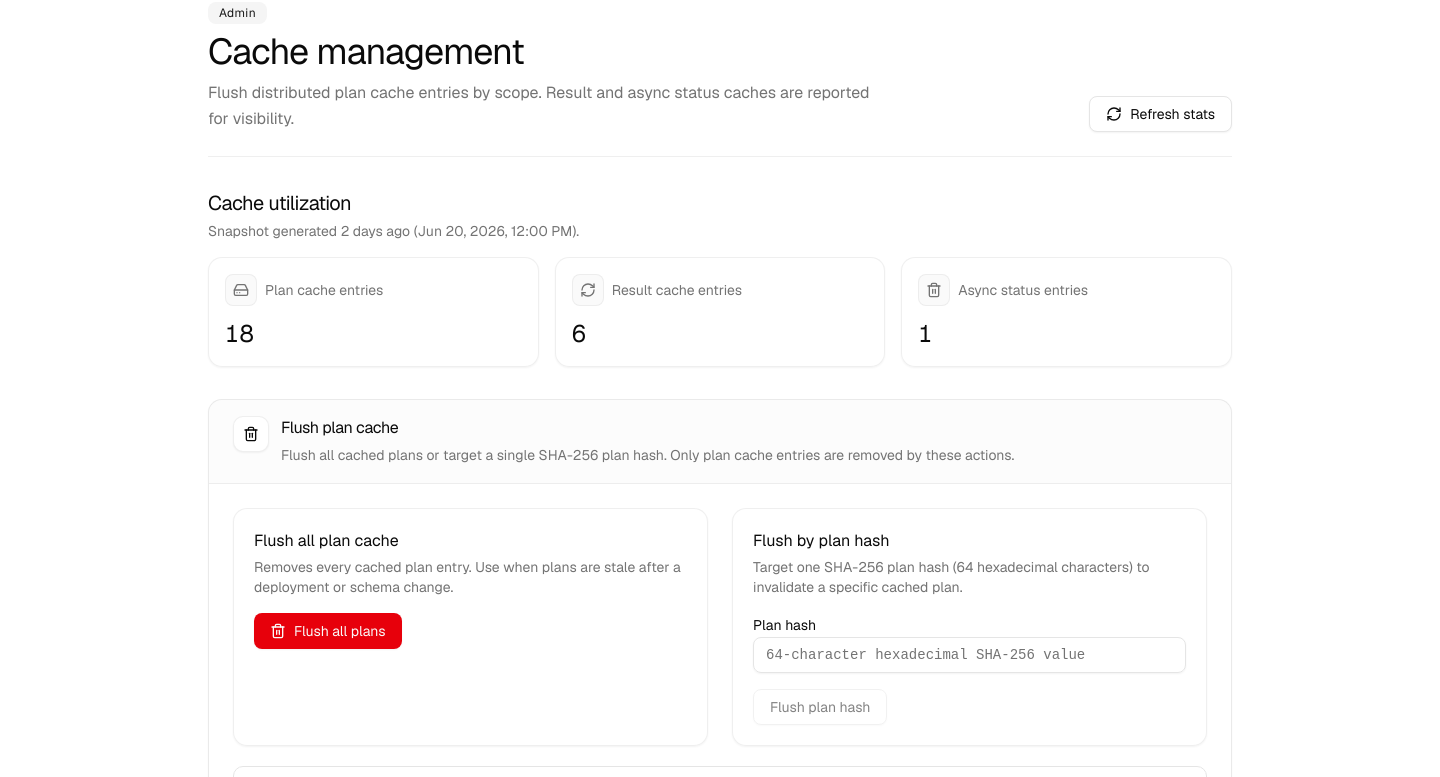
it: CacheManagementPage › renders cache stats and flushes all plans after confirmation
Expected: the heading "Cache utilization" is shown, [208,190,351,216]
Expected: the text "18" is shown, [225,318,254,349]
Step 1. Click the button "Flush all plans" → (328, 631), box [254,613,402,649]
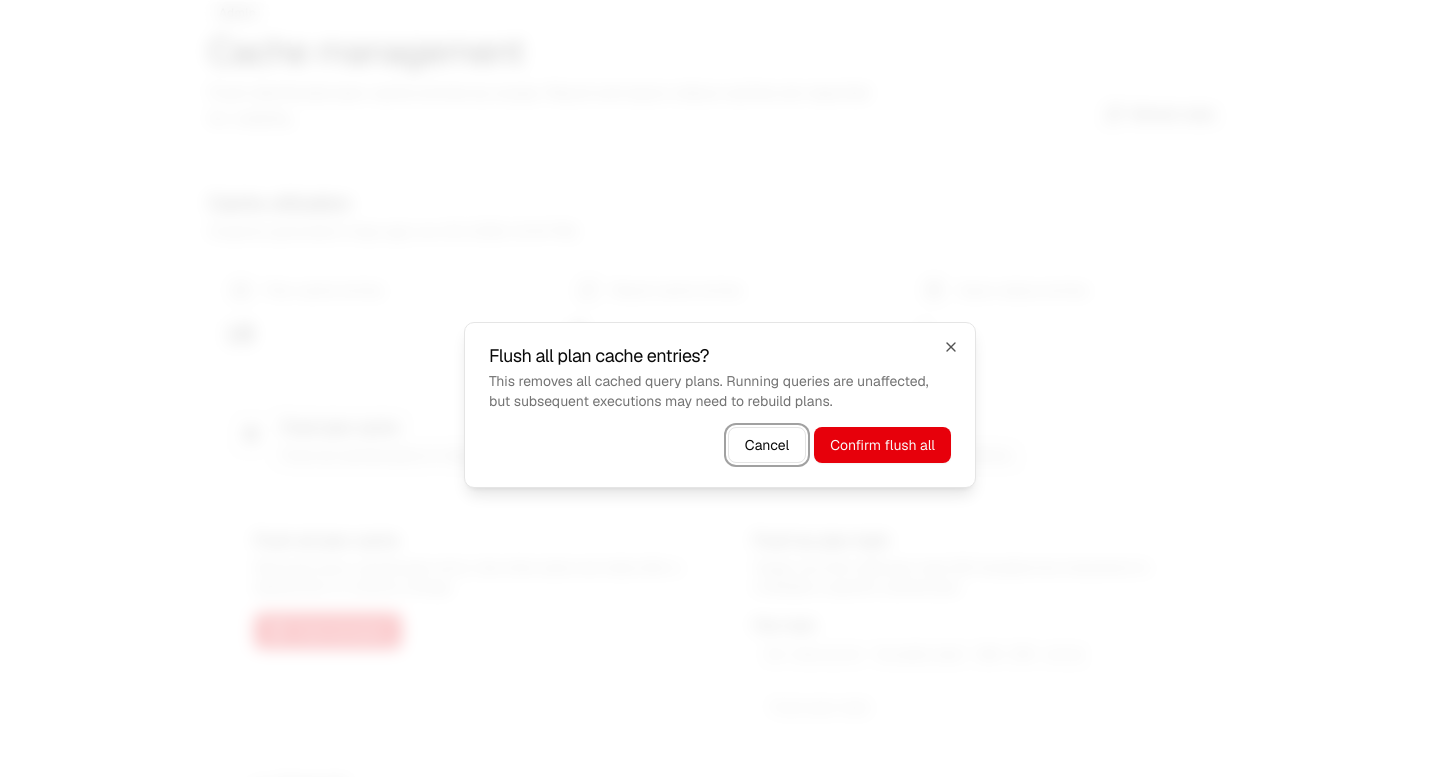
Step 2. Click the button "Confirm flush all" → (883, 445), box [814,427,951,463]
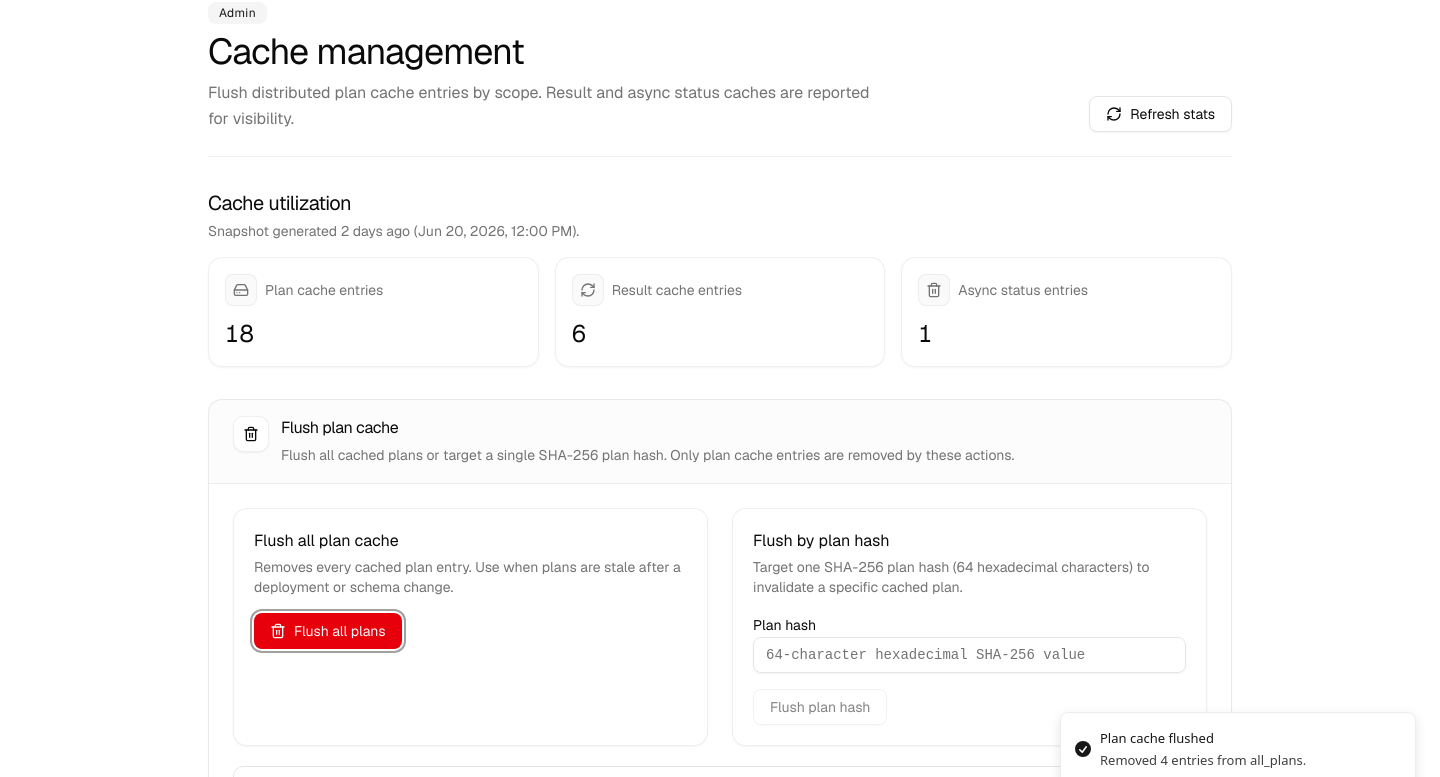
Now the text "Plan cache flushed" is shown, box [1100,729,1214,747]
